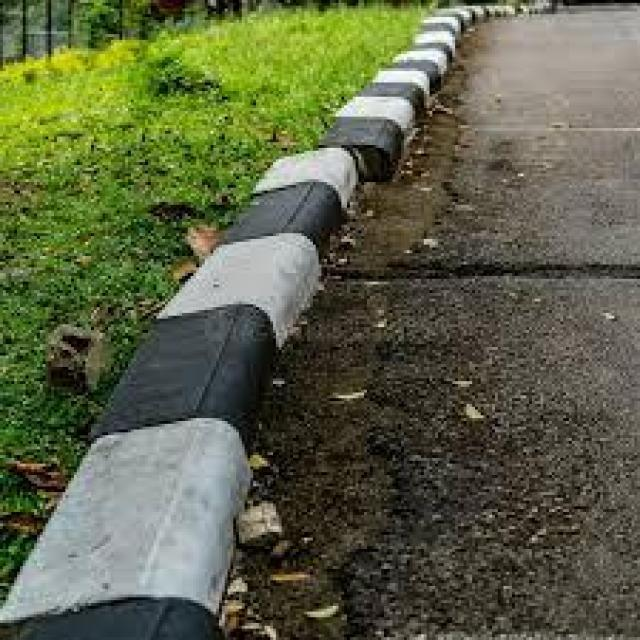curb: (1, 81, 437, 640)
